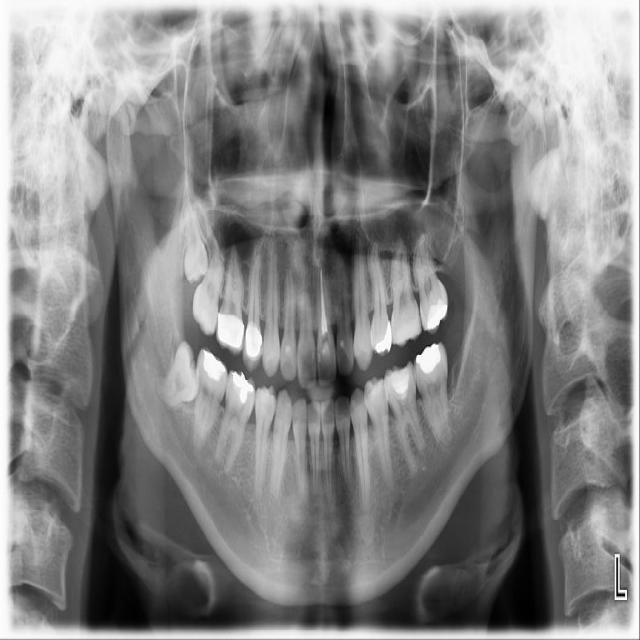3M ESPE Implant: (182, 198, 208, 285)
52: (408, 340, 454, 397), (221, 368, 260, 423), (194, 345, 230, 404), (417, 278, 451, 336), (384, 359, 416, 411), (215, 306, 245, 357), (242, 321, 265, 373), (316, 331, 337, 387), (278, 331, 298, 383), (370, 311, 392, 358), (337, 326, 354, 376)
73: (315, 261, 334, 344), (583, 541, 588, 550)
BioHorizons Implant: (411, 228, 451, 335)
Blue Sky Bio Implant: (410, 340, 456, 451)
Caries: (188, 227, 228, 339)
Implant: (191, 345, 231, 451)
Keystone Dental Implant: (145, 338, 219, 417)
